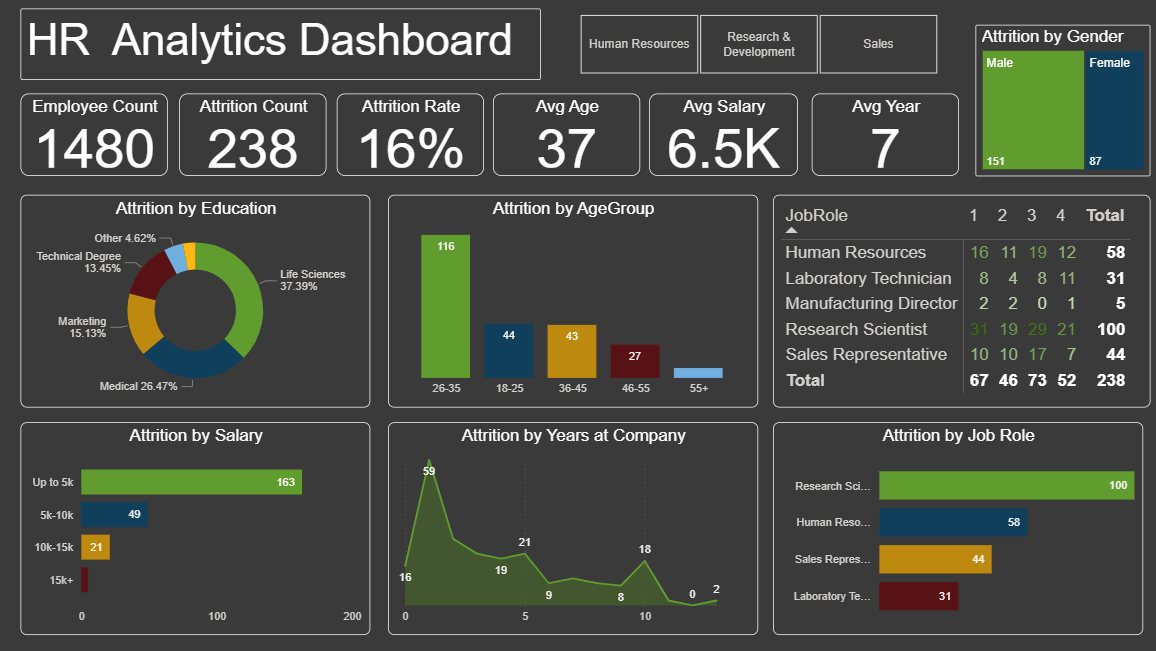

Layout of this report page (visuals, bound fields, positions):
{"tool":"powerbi","page":{"name":"Page 1","canvas":[1280,720],"ordinal":0},"visuals":[{"type":"card","title":"Employee Count","fields":{"Values":["Sum(HR_Data.EmployeeCount)"]},"box":[30.2,107,161.9,90.6],"z":0},{"type":"card","title":"Attrition Count","fields":{"Values":["Sum(HR_Data.Attrition_Count)"]},"box":[204.5,107,161.9,90.6],"z":1000},{"type":"card","title":"Attrition Rate","fields":{"Values":["HR_Data.Attrition_Rate"]},"box":[377.4,107,161.9,90.6],"z":2000},{"type":"card","title":"Avg Age","fields":{"Values":["Avg(HR_Data.Age)"]},"box":[548.9,107,161.9,90.6],"z":3000},{"type":"card","title":"Avg Salary","fields":{"Values":["Avg(HR_Data.MonthlyIncome)"]},"box":[720.4,107,163.3,90.6],"z":4000},{"type":"card","title":"Avg Year","fields":{"Values":["Avg(HR_Data.YearsAtCompany)"]},"box":[898.8,107,161.9,90.6],"z":5000},{"type":"textbox","box":[30.2,13.7,570.8,78.2],"z":6000},{"type":"slicer","fields":{"Values":["Departments.Department"]},"box":[618.9,13.7,441.9,78.2],"z":7000},{"type":"treemap","title":"Attrition by Gender","fields":{"Group":["HR_Data.Gender"],"Values":["Sum(HR_Data.Attrition_Count)"]},"box":[1078.6,31.6,192.1,166],"z":8000},{"type":"donutChart","title":" Attrition by Education","fields":{"Category":["Education.Education"],"Y":["Sum(HR_Data.Attrition_Count)"]},"box":[30.2,218.2,384.2,233.3],"z":9000},{"type":"barChart","title":" Attrition by Salary","fields":{"Category":["HR_Data.SalarySlab"],"Y":["Sum(HR_Data.Attrition_Count)"],"Series":["HR_Data.SalarySlab"]},"box":[30.2,467.9,384.2,233.3],"z":10000},{"type":"columnChart","title":" Attrition by AgeGroup","fields":{"Category":["HR_Data.AgeGroup"],"Y":["Sum(HR_Data.Attrition_Count)"],"Series":["HR_Data.AgeGroup"]},"box":[433.6,218.2,406.2,233.3],"z":11000},{"type":"barChart","title":" Attrition by Job Role","fields":{"Y":["Sum(HR_Data.Attrition_Count)"],"Category":["Jobs.JobRole"],"Series":["Jobs.JobRole"]},"box":[856.3,467.9,406.2,233.3],"z":12000},{"type":"areaChart","title":" Attrition by Years at Company","fields":{"Category":["HR_Data.YearsAtCompany"],"Y":["Sum(HR_Data.Attrition_Count)"]},"box":[433.6,467.9,406.2,233.3],"z":13000},{"type":"pivotTable","title":" Attrition by Salary","fields":{"Rows":["Jobs.JobRole"],"Values":["Sum(HR_Data.Attrition_Count)"],"Columns":["HR_Data.JobSatisfaction"]},"box":[856.3,218.2,414.4,233.3],"z":14000}]}

Visuals, with their boxes in screenshot pixels (x1, y1, x2, y2), scaled from the page's 1280x720 canvas onto the 1156x651 screenshot:
"Employee Count" card: l=27, t=97, r=173, b=179
"Attrition Count" card: l=185, t=97, r=331, b=179
"Attrition Rate" card: l=341, t=97, r=487, b=179
"Avg Age" card: l=496, t=97, r=642, b=179
"Avg Salary" card: l=651, t=97, r=798, b=179
"Avg Year" card: l=812, t=97, r=958, b=179
textbox: l=27, t=12, r=543, b=83
slicer - Departments.Department: l=559, t=12, r=958, b=83
"Attrition by Gender" treemap: l=974, t=29, r=1148, b=179
" Attrition by Education" donutChart: l=27, t=197, r=374, b=408
" Attrition by Salary" barChart: l=27, t=423, r=374, b=634
" Attrition by AgeGroup" columnChart: l=392, t=197, r=758, b=408
" Attrition by Job Role" barChart: l=773, t=423, r=1140, b=634
" Attrition by Years at Company" areaChart: l=392, t=423, r=758, b=634
" Attrition by Salary" pivotTable: l=773, t=197, r=1148, b=408
